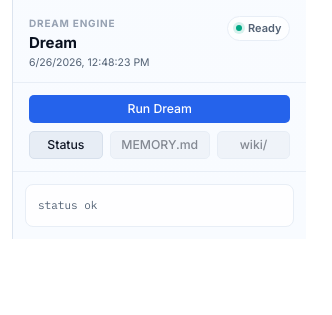
DreamPanel › never leaks API key value to the visible error UI (collapsed <details> is acceptable)
Expected: the text "status ok" is shown, [25, 184, 294, 227]
Click the button "Run Dream" at (160, 108), box [29, 94, 290, 122]
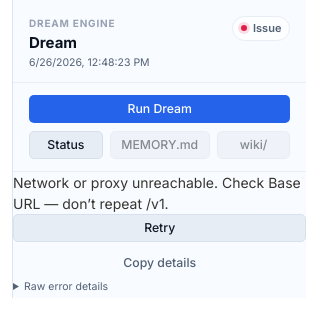
Now the text "Network or proxy unreachable" is shown, box [13, 174, 301, 212]
Now the element showing "Raw error details" is shown, box [24, 280, 108, 293]
